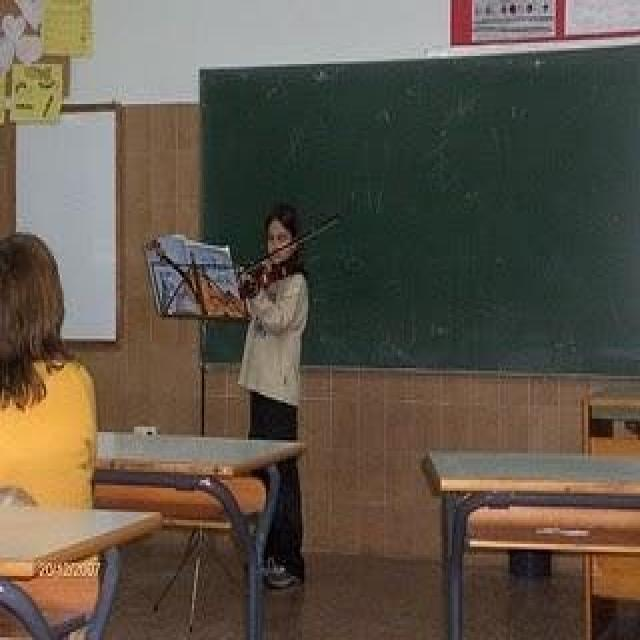violin: (236, 256, 307, 292)
